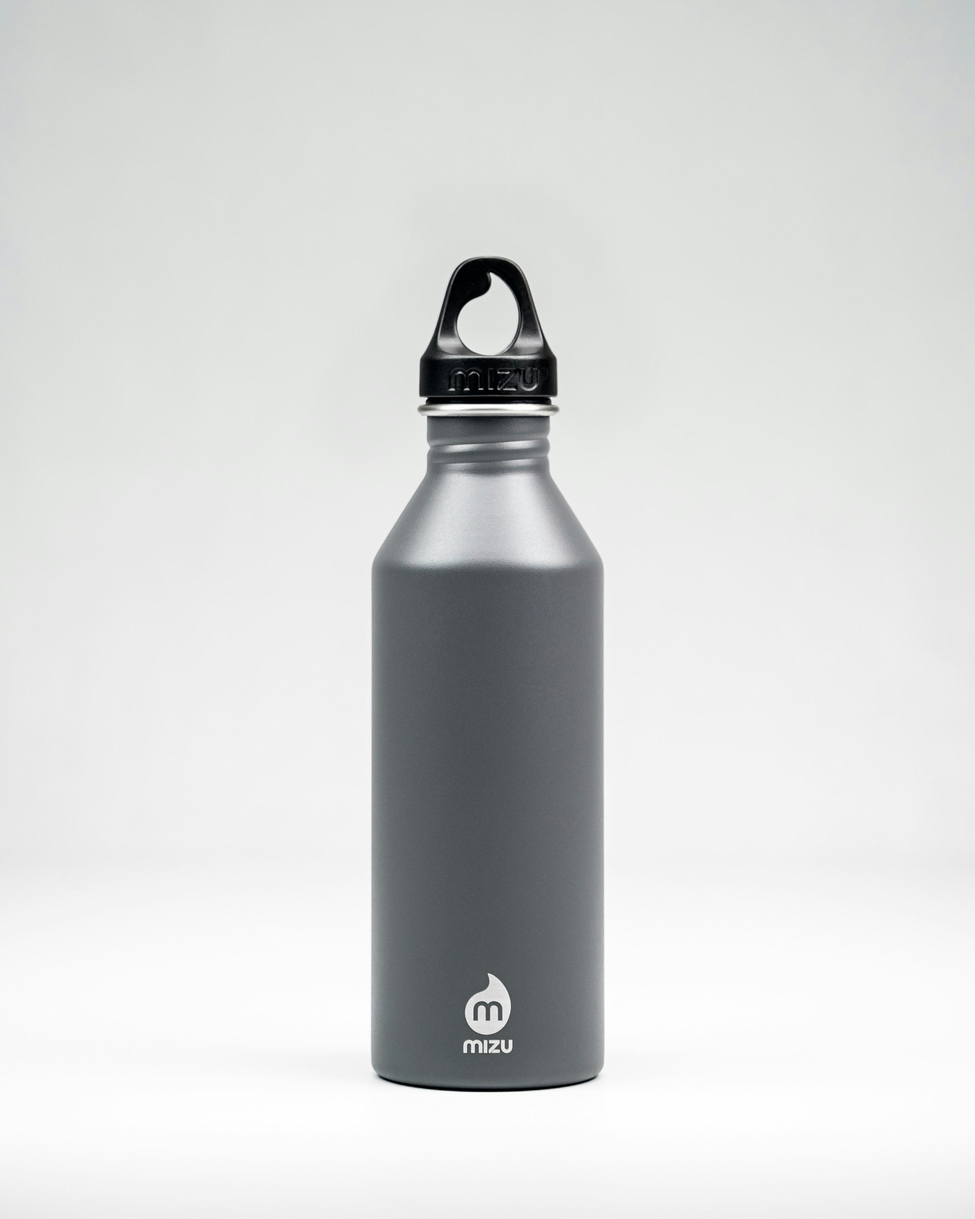Bottle-Detection: (261, 206, 724, 1156)
